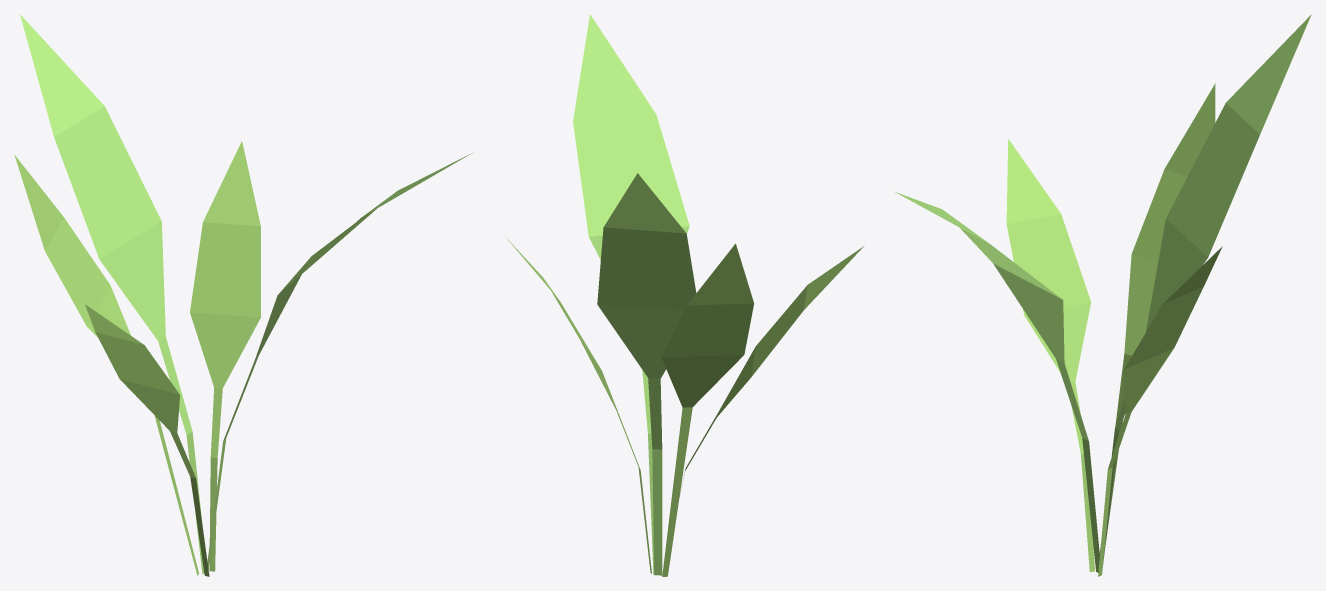
File: Plant_g_OneS_04.fbx
3 renders of one model, left to right at view 1: azimuth 30°, elevation 25°; view 2: azimuth 150°, elevation 25°; view 3: azimuth 270°, elevation 25°, orthographic. The views are drawn at different scales.
Visible parts, largest first — view 1: Plant_g_OneS_04; view 2: Plant_g_OneS_04; view 3: Plant_g_OneS_04.
Part boxes in pixels (box(x1,y1,x2,y2)): Plant_g_OneS_04: box(14, 14, 473, 576); Plant_g_OneS_04: box(505, 14, 863, 576); Plant_g_OneS_04: box(894, 14, 1311, 576).
Bounding box in the file's own units: 0.4141 × 0.5954 × 0.4365.
